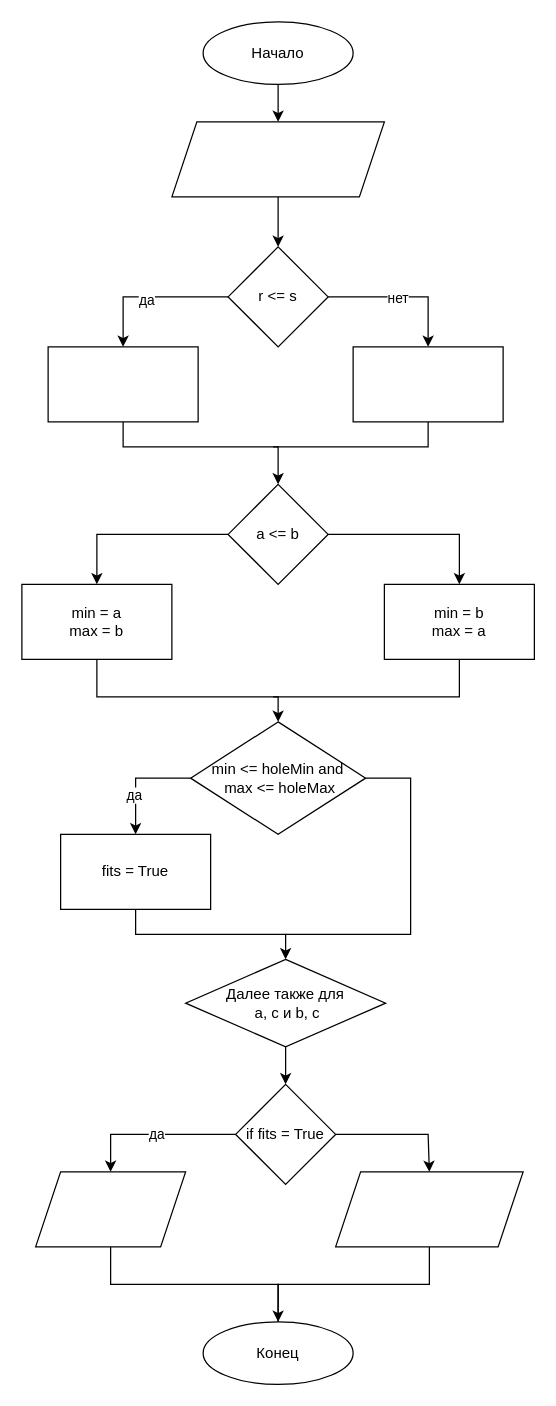
Some shapes in this 556 by 1406 pixel diagram are drawn without their labels. The shapes that lost their labels are listed below. From the top down, each one's box as (x1, y1, x2, y2) in pixels, then its label:
(171, 121, 384, 197): Ввод размеров: отверстия (r, s) кирпича (a, b, c) fits = False
(47, 346, 198, 422): holeMin = r holeMax = s
(352, 346, 503, 422): holeMin = s holeMax = r
(34, 1171, 186, 1247): Кирпич пройдет
(334, 1171, 523, 1247): Кирпич НЕ пройдет
